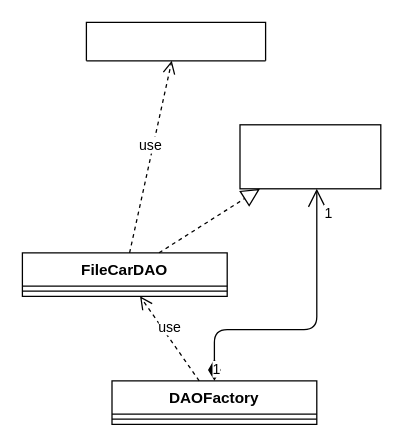
The diagram is 403 pixels wide and 447 high, and some of its shapes have lost their labels. Each missing label, with the centre of its shape:
DAOException: [175,41]
«interface» CarDAO: [310,156]
